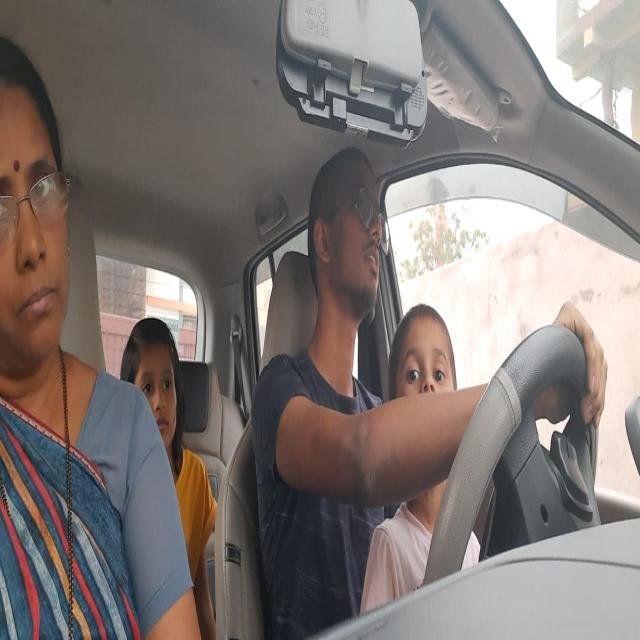child: (385, 304, 456, 411)
person: (0, 32, 71, 374), (305, 139, 388, 322), (119, 315, 184, 452)
